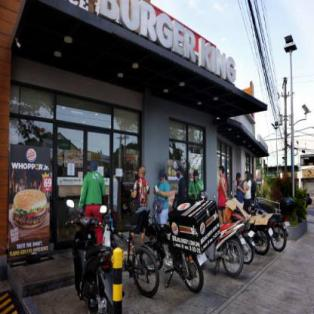Motocicleta: (56, 195, 115, 313), (134, 205, 200, 306)
